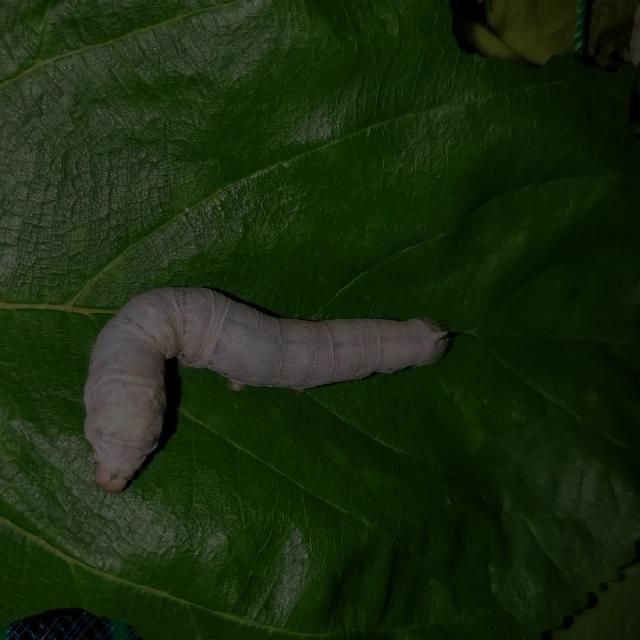Healthy: (39, 255, 496, 511)
